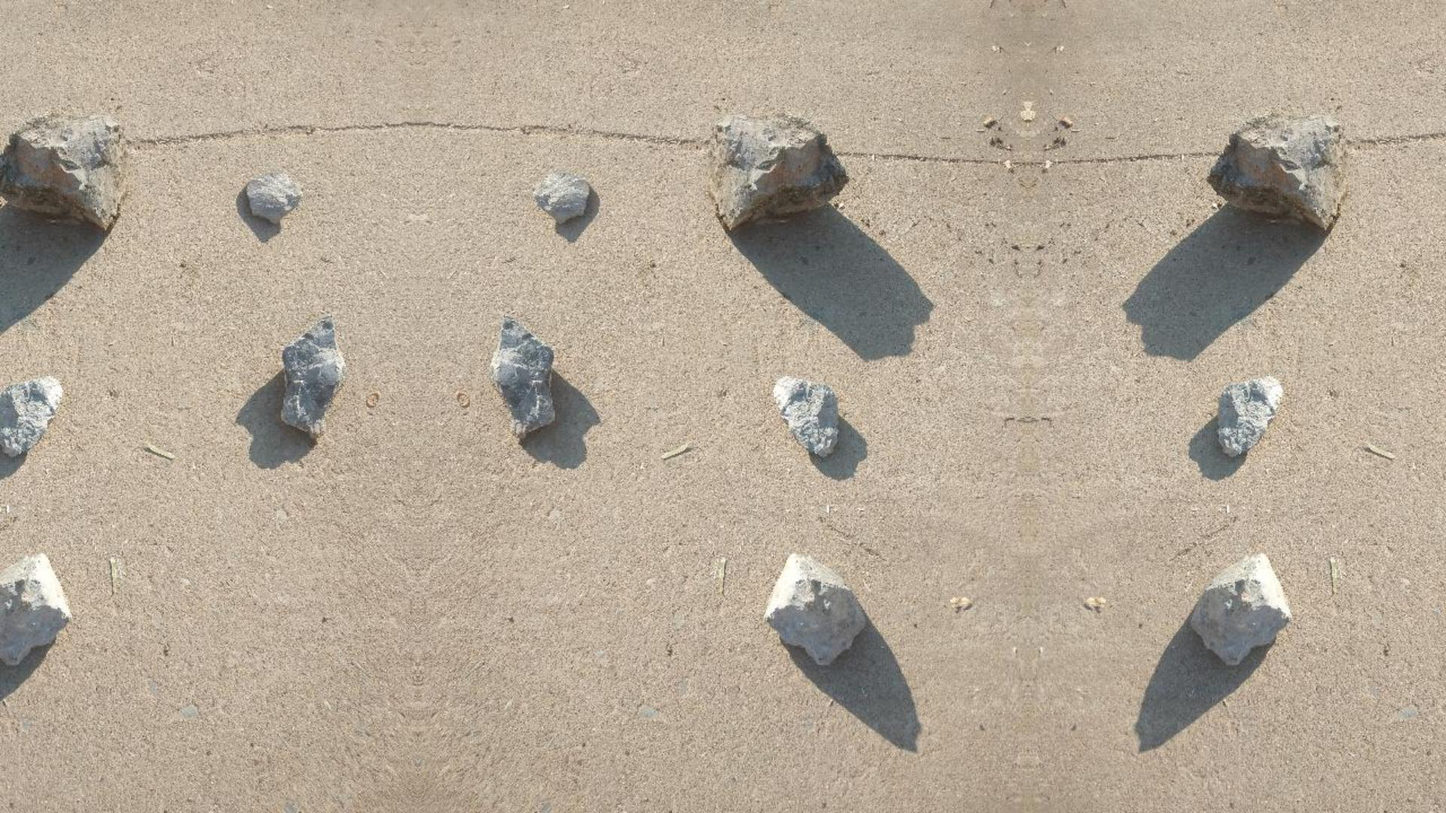rock: (1208, 116, 1347, 231), (707, 115, 847, 229), (0, 116, 124, 230), (765, 553, 866, 664), (1190, 553, 1290, 664), (490, 315, 555, 439), (280, 315, 345, 439), (0, 553, 70, 665), (772, 376, 837, 456), (1218, 376, 1282, 456), (0, 377, 62, 456), (532, 171, 591, 220), (245, 172, 302, 221)
